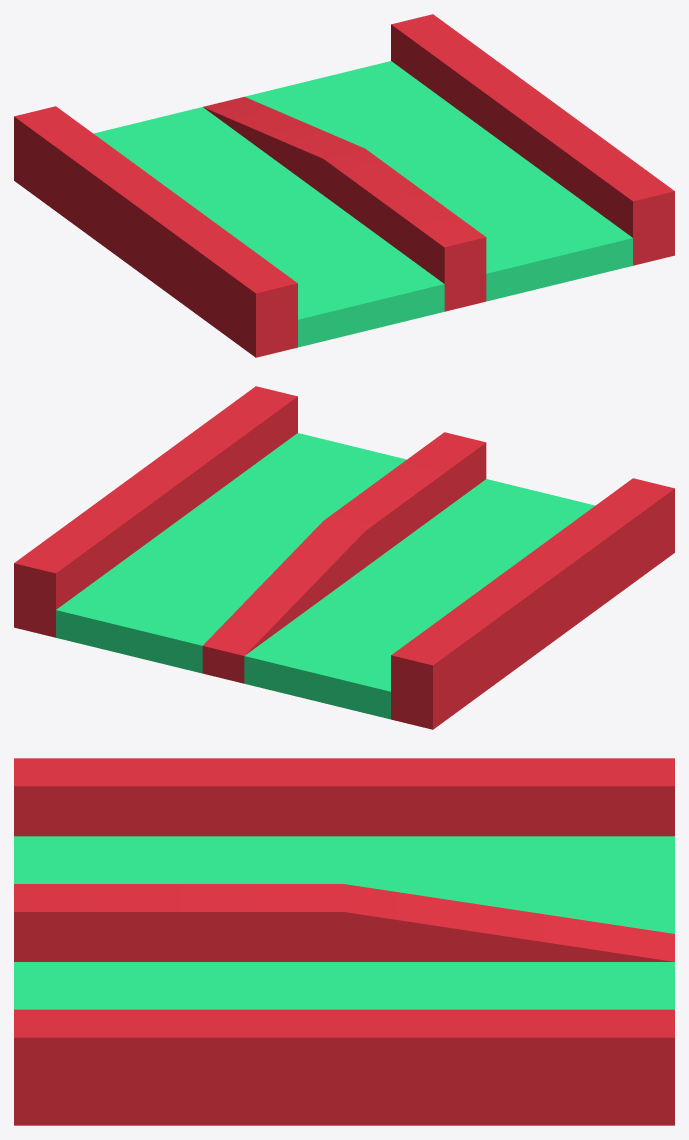
File: splitStart.fbx
The picture shows the model from 3 angles, top to bottom: view 1: azimuth 30°, elevation 25°; view 2: azimuth 150°, elevation 25°; view 3: azimuth 270°, elevation 25°; orthographic projection. The views are drawn at different scales.
Parts seen in each view (by area): view 1: splitStart; view 2: splitStart; view 3: splitStart.
Boxes of the visible parts, bbox=[...] form: splitStart: bbox=[14, 14, 674, 357]; splitStart: bbox=[14, 386, 674, 729]; splitStart: bbox=[14, 758, 674, 1125].
Bounding box in the file's own units: 10 × 1.47 × 10.
